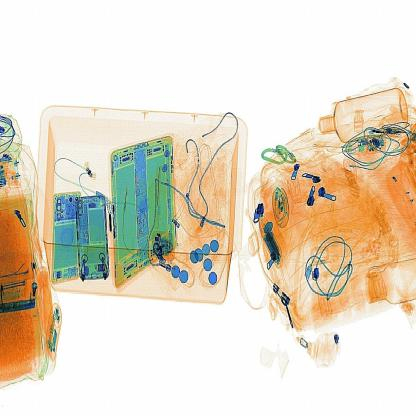pliers: (147, 154, 170, 233)
